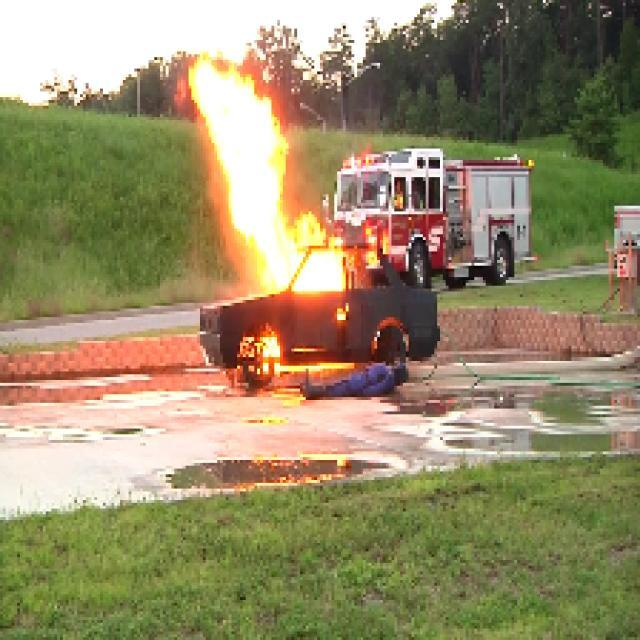Fire: (178, 45, 329, 310)
